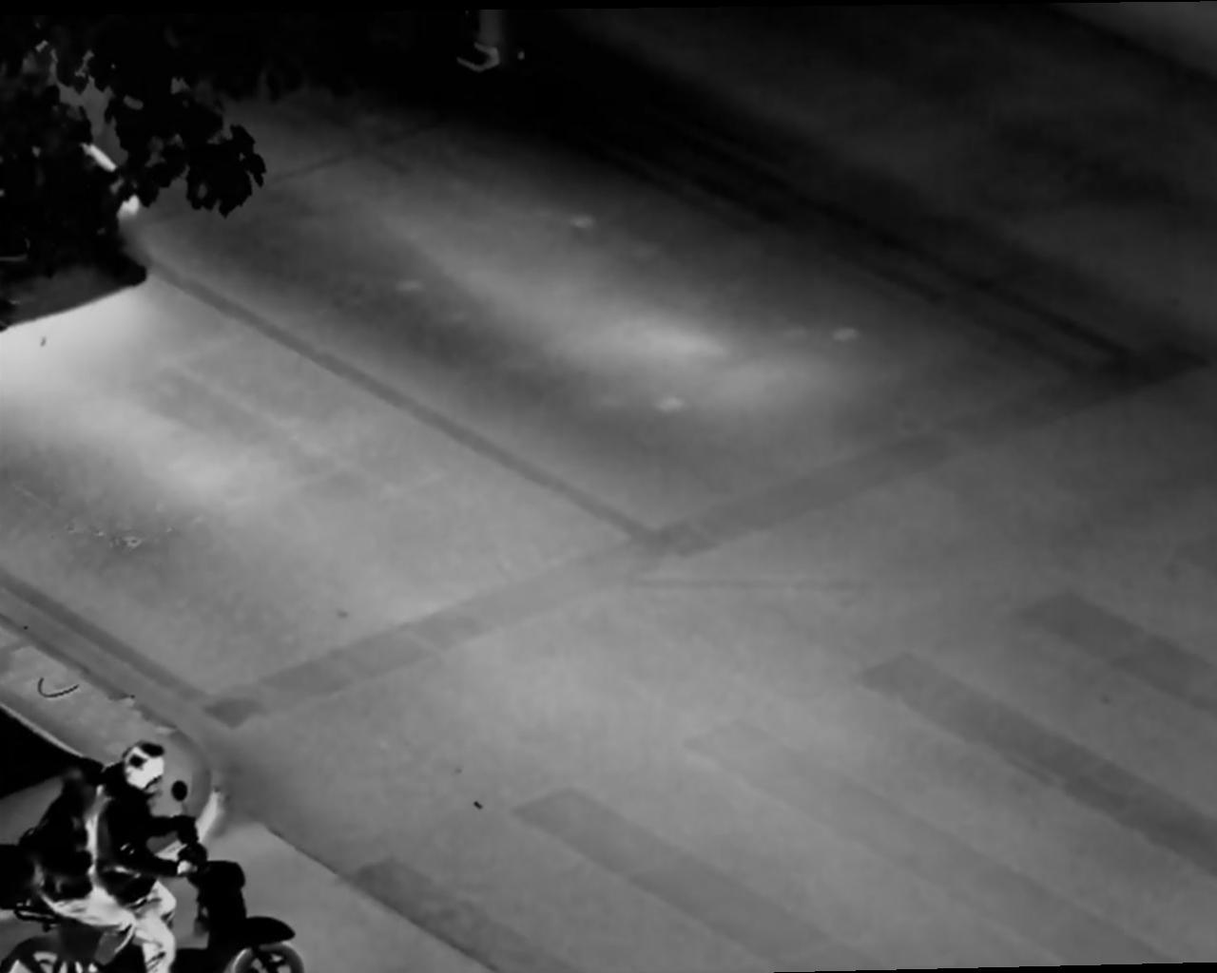person: (72, 734, 203, 965)
